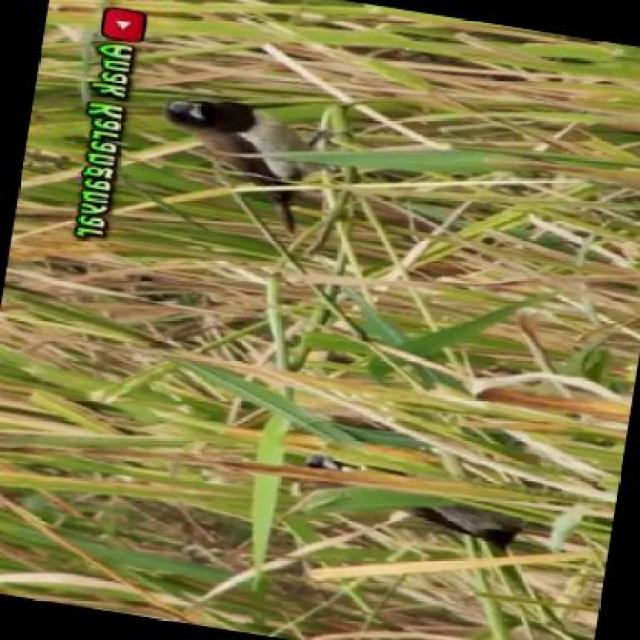Bird: (164, 85, 327, 237)
